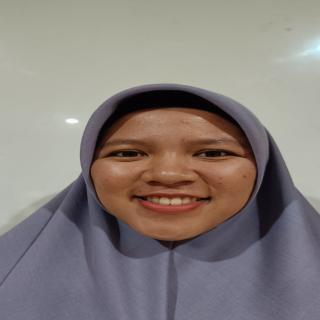Senang: (85, 96, 285, 257)
